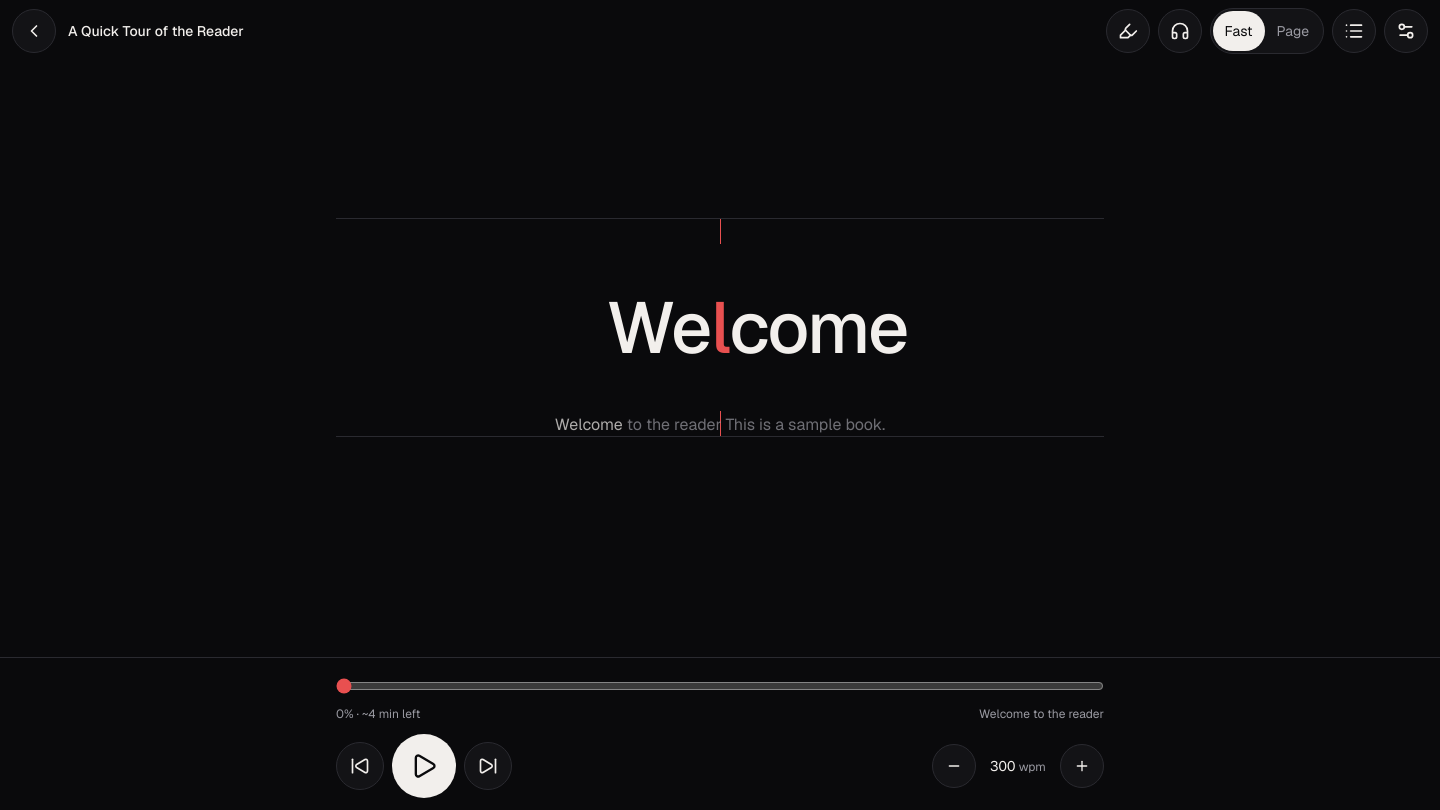
Test: ReaderApp narration › closing listen mode stops the voice and the position survives
Click the button named "Listen".
click(1180, 31)  # box [1158,9,1202,53]
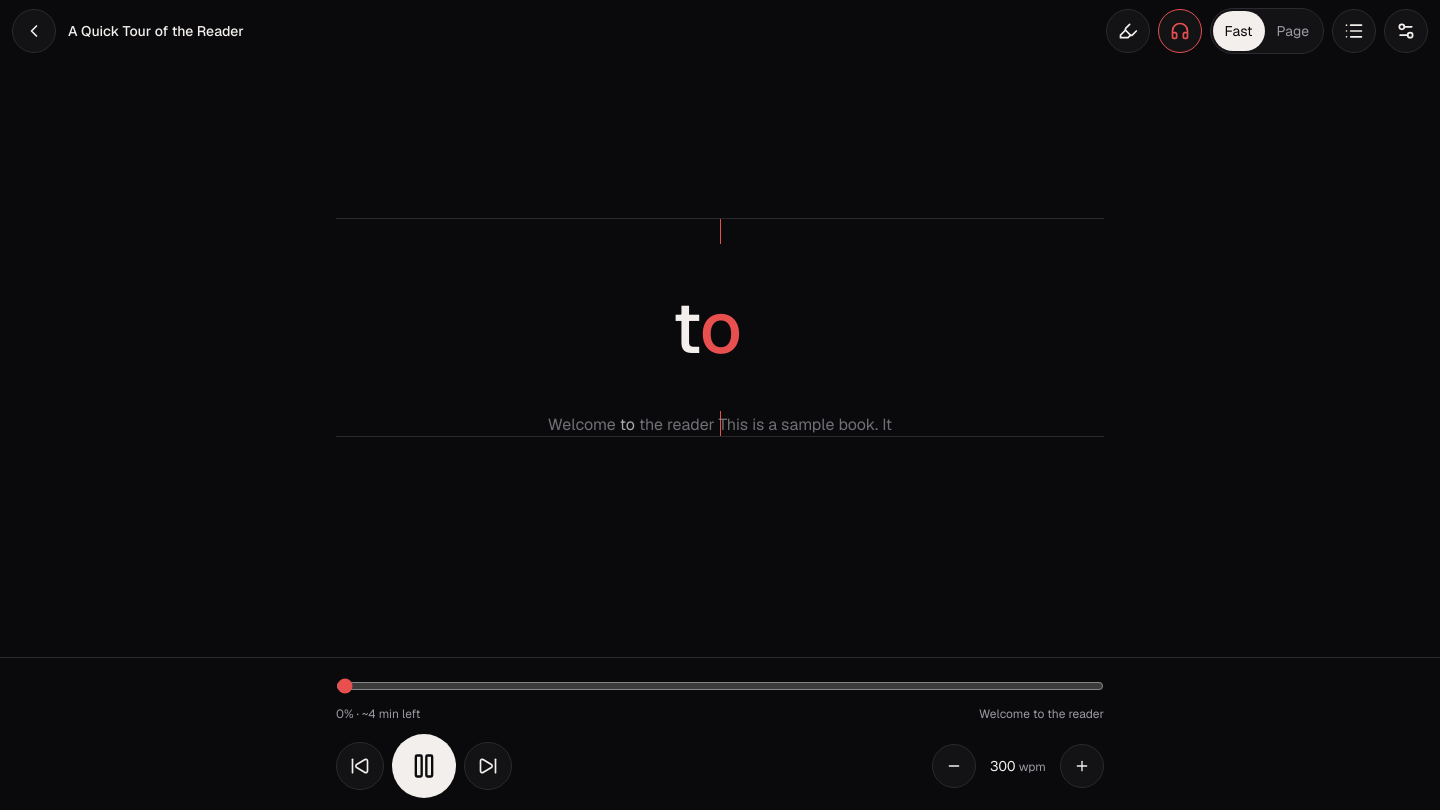
Click the button named "Listen".
click(1180, 31)  # box [1158,9,1202,53]
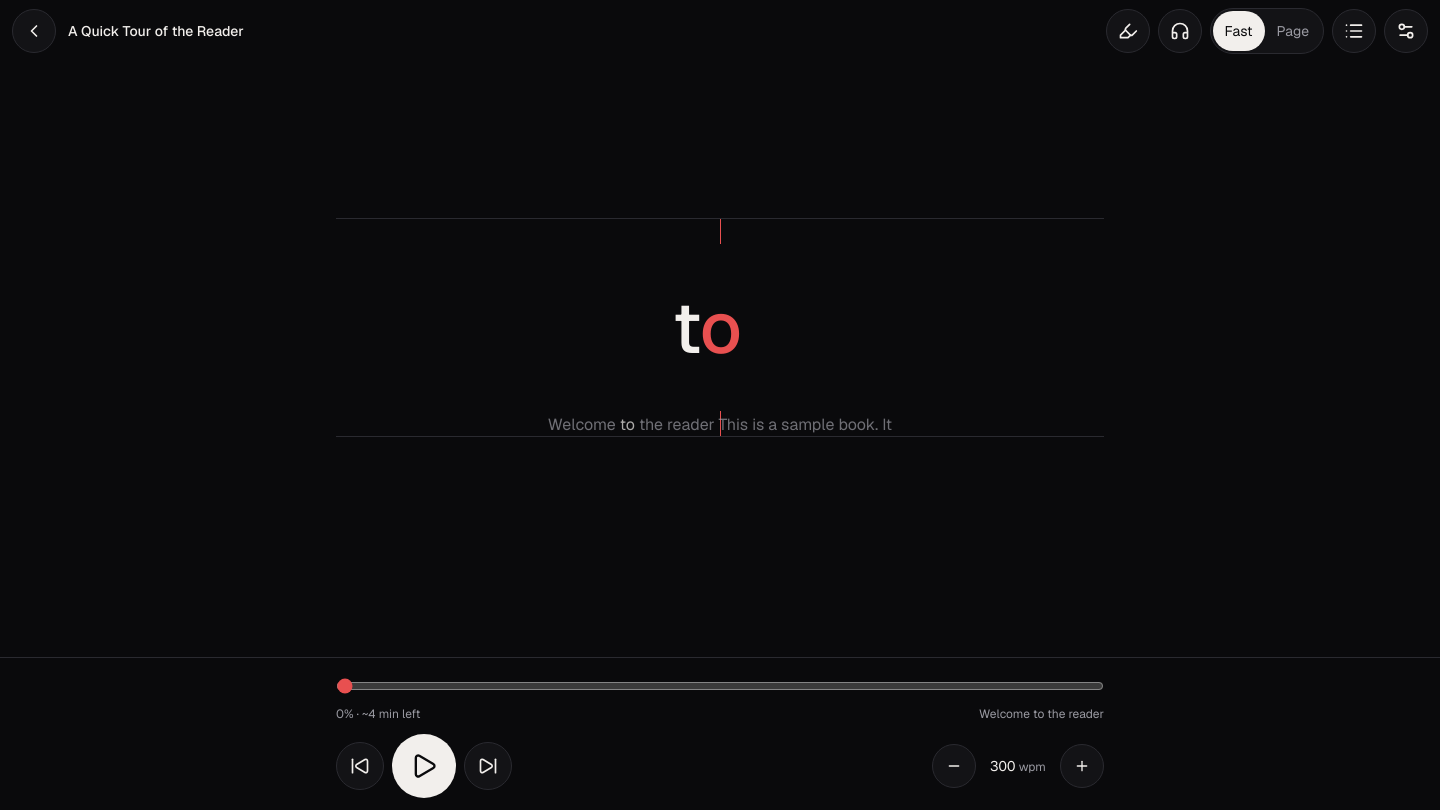
Check: the button named "Play" is shown, box [392,734,456,798]
